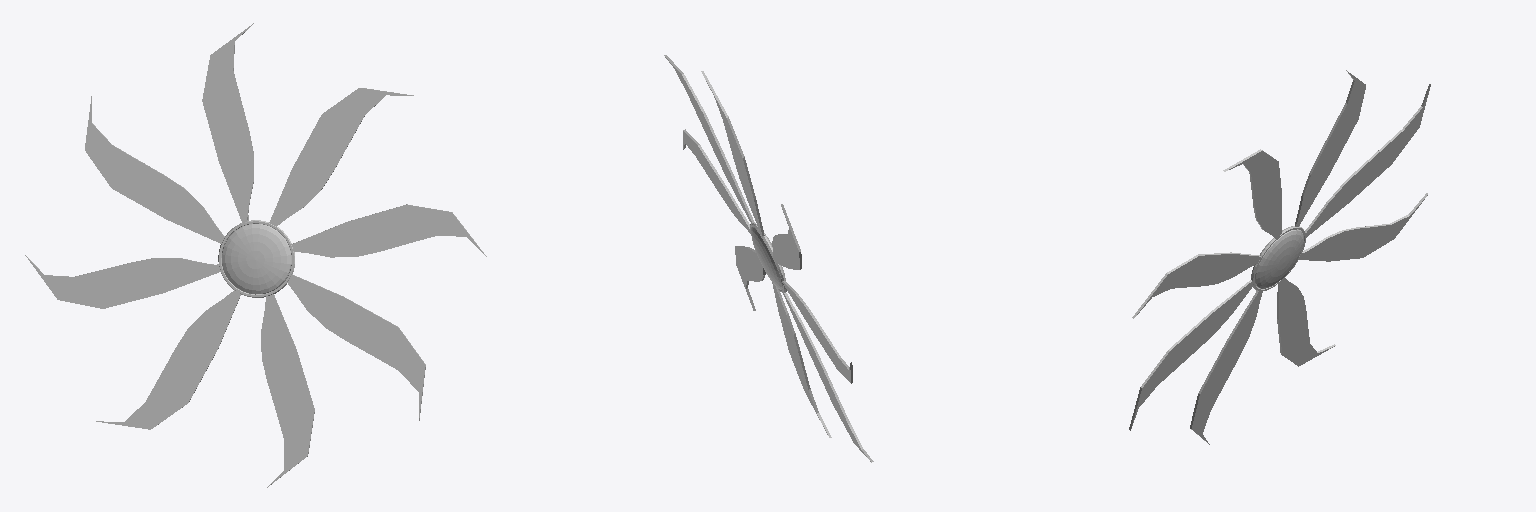
Rendered from newfan1.obj.
3 views of the same model, side by side, from view 1: azimuth 30°, elevation 25°; view 2: azimuth 150°, elevation 25°; view 3: azimuth 270°, elevation 25° (orthographic).
Visible parts, largest first — view 1: Cap:1_6, Cap:1_5, Cap:1_1, Cap:1_2, Cap:1_3, Cap:1_4, Cap:1_7, Cap:1, fan:middle:sphere, fan:middle; view 2: Cap:2_6, Cap:2_2, Cap:2_3, Cap:2_1, Cap:2_5, Cap:2_7, Cap:2_4, Cap:2, fan:middle:sphere; view 3: Cap:2_4, Cap:2_7, Cap:2_3, Cap:2_6, Cap:2_5, Cap:2, Cap:2_1, Cap:2_2, fan:middle:sphere.
Part boxes in pixels (x1,y1,x2,y2): Cap:1_6: (202,23,253,225); Cap:1_5: (25,255,223,308); Cap:1_1: (85,96,226,243); Cap:1_2: (269,88,411,228); Cap:1_3: (289,205,483,257); Cap:1_4: (261,291,314,487); Cap:1_7: (102,288,240,429); Cap:1: (287,274,425,417); fan:middle:sphere: (222,224,291,294); fan:middle: (218,220,294,297); Cap:2_6: (706,81,762,236); Cap:2_2: (665,57,753,226); Cap:2_3: (683,131,750,233); Cap:2_1: (772,209,799,269); Cap:2_5: (783,282,850,382); Cap:2_7: (782,290,870,461); Cap:2_4: (772,282,827,434); Cap:2: (735,247,763,302); fan:middle:sphere: (751,227,785,289); Cap:2_4: (1192,291,1262,444); Cap:2_7: (1279,278,1334,366); Cap:2_3: (1137,254,1261,314); Cap:2_6: (1294,72,1365,229); Cap:2_5: (1299,195,1427,261); Cap:2: (1131,281,1255,428); Cap:2_1: (1306,89,1429,237); Cap:2_2: (1229,151,1281,239); fan:middle:sphere: (1255,229,1303,288).
Size of the model in its own units: 37.27 by 45.51 by 30.88.